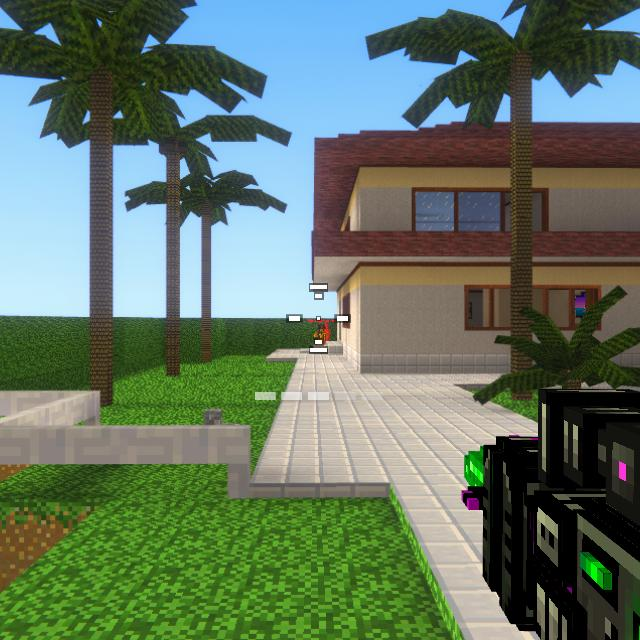Enemy: (315, 328, 328, 345)
